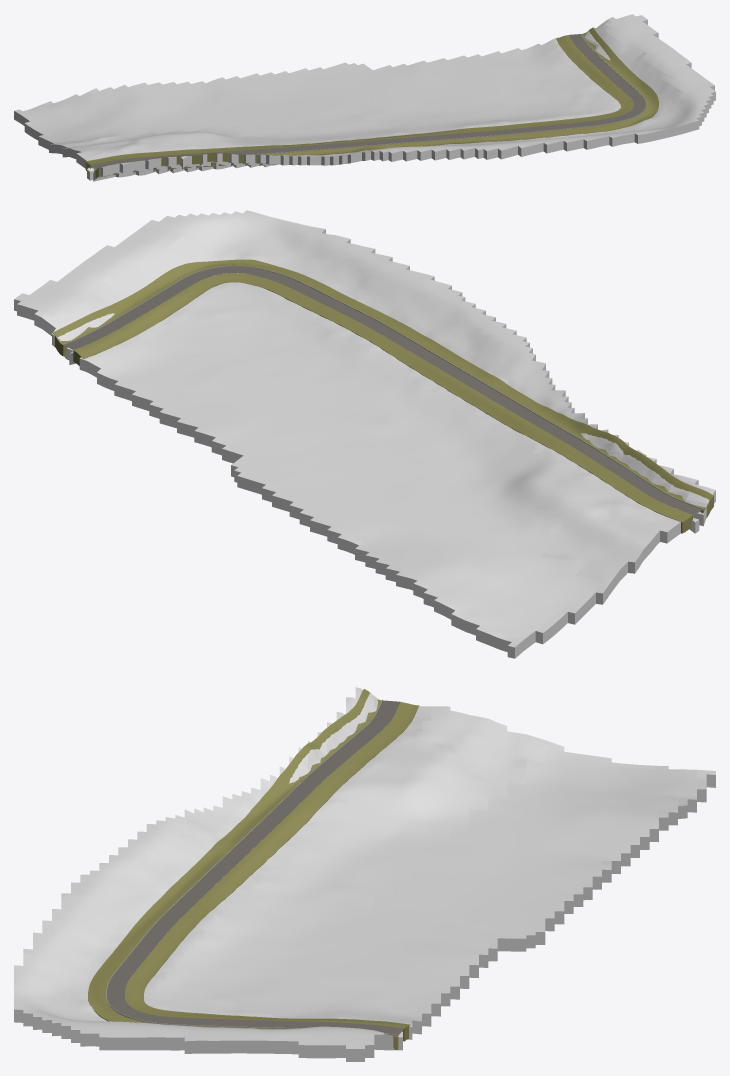
The model's file is conz_62.glb.
The picture shows the model from 3 angles, top to bottom: view 1: azimuth 30°, elevation 25°; view 2: azimuth 150°, elevation 25°; view 3: azimuth 270°, elevation 25°; orthographic projection. The views are drawn at different scales.
Visible parts, largest first — view 1: terrain62, verge62R, road62, verge62L, kerb62_50410; view 2: terrain62, verge62L, verge62R, road62, kerb62_50410; view 3: terrain62, verge62L, road62, verge62R, kerb62_50410.
Part boxes in pixels (left/top/right/bottom): terrain62: left=14, top=14, right=715, bottom=181; verge62R: left=94, top=27, right=658, bottom=178; road62: left=90, top=34, right=646, bottom=169; verge62L: left=85, top=35, right=633, bottom=170; kerb62_50410: left=94, top=34, right=646, bottom=169; terrain62: left=14, top=210, right=715, bottom=658; verge62L: left=73, top=273, right=692, bottom=533; verge62R: left=52, top=259, right=713, bottom=517; road62: left=63, top=266, right=702, bottom=514; kerb62_50410: left=63, top=265, right=703, bottom=509; terrain62: left=14, top=687, right=715, bottom=1061; verge62L: left=125, top=702, right=419, bottom=1041; road62: left=106, top=700, right=403, bottom=1035; verge62R: left=88, top=689, right=398, bottom=1049; kerb62_50410: left=106, top=699, right=398, bottom=1035.
Size of the model in its own units: 194 by 23.32 by 148.
